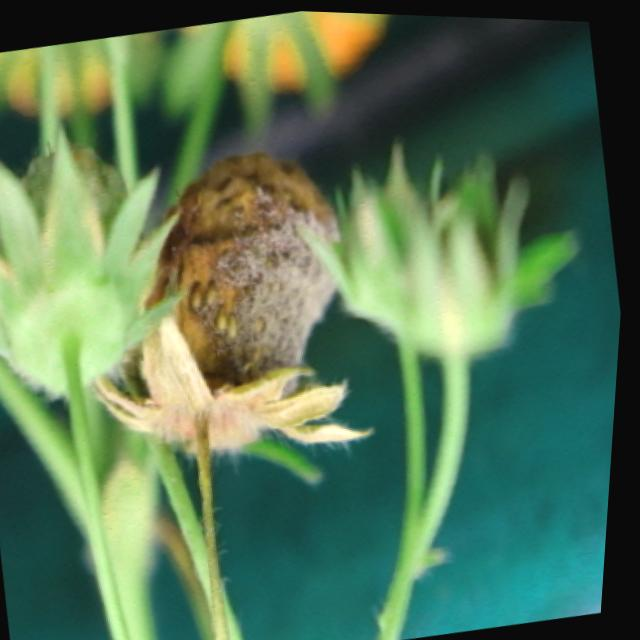Gray Mold: (100, 148, 378, 510)
